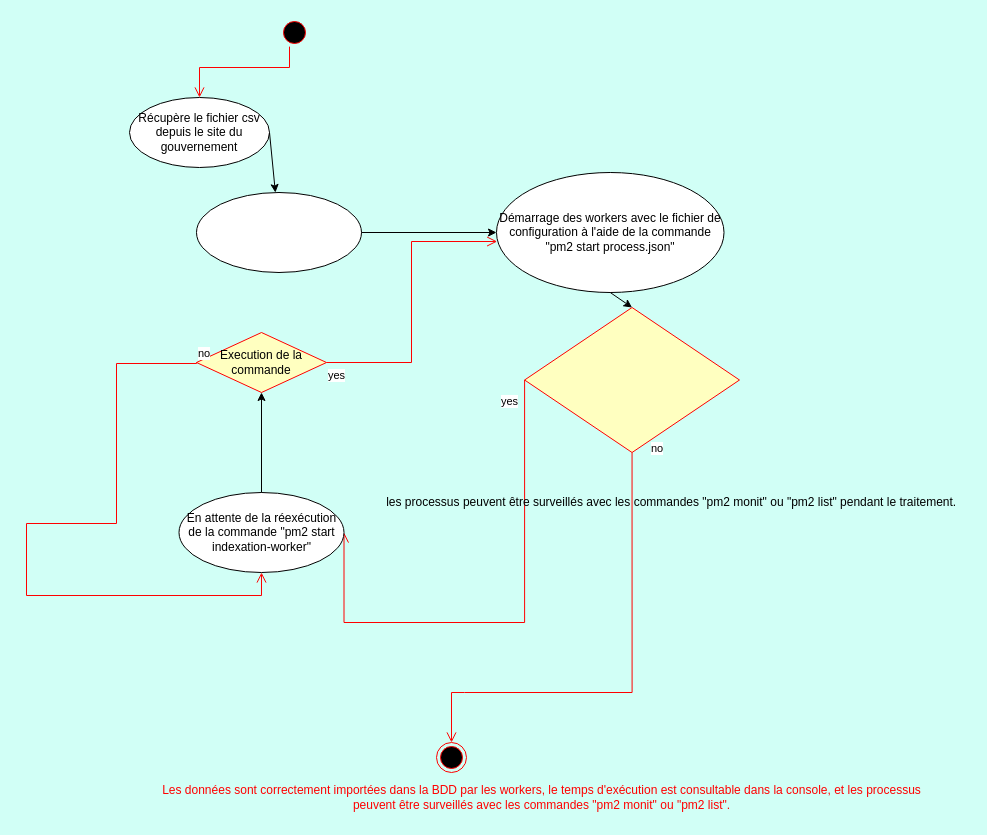
Image size: 987x835. Some labels were removed from this diagram. The shapes that lost their labels are listed below. From the top down, each one's box as (x1, y1, x2, y2) in pixels, then its label:
(196, 192, 362, 272): Partitionement du fichier csv avec ls script "generate_files.js"
(524, 306, 740, 452): Mise en pause avec l'éxécution de la cmd "pm2 stop indexation-worker"
